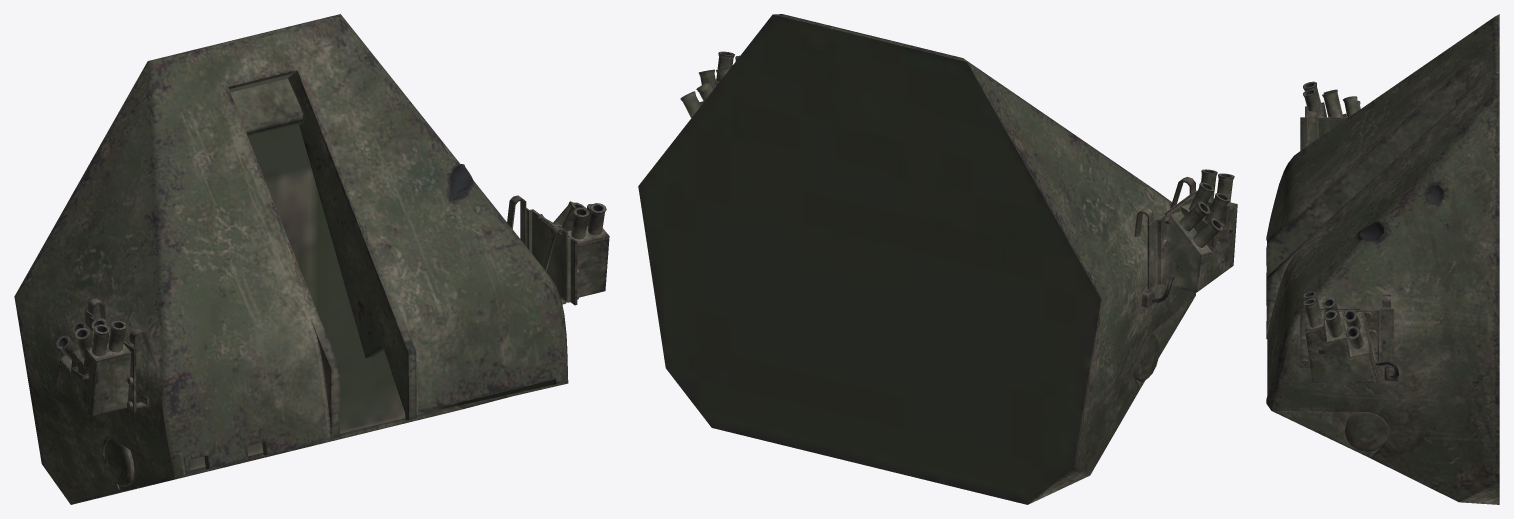
The model's file is Turret_01.glb.
3 renders of one model, left to right at view 1: azimuth 30°, elevation 25°; view 2: azimuth 150°, elevation 25°; view 3: azimuth 270°, elevation 25°, orthographic. The views are drawn at different scales.
Parts seen in each view (by area): view 1: set_0_group_0; view 2: set_0_group_0; view 3: set_0_group_0.
Part boxes in pixels (box(x1,y1,x2,y2)): set_0_group_0: box(14, 14, 609, 504); set_0_group_0: box(638, 14, 1237, 504); set_0_group_0: box(1266, 14, 1499, 504).
Size of the model in its own units: 2.56 by 1.94 by 1.08.
Materials: 1 (1 with a texture image).
